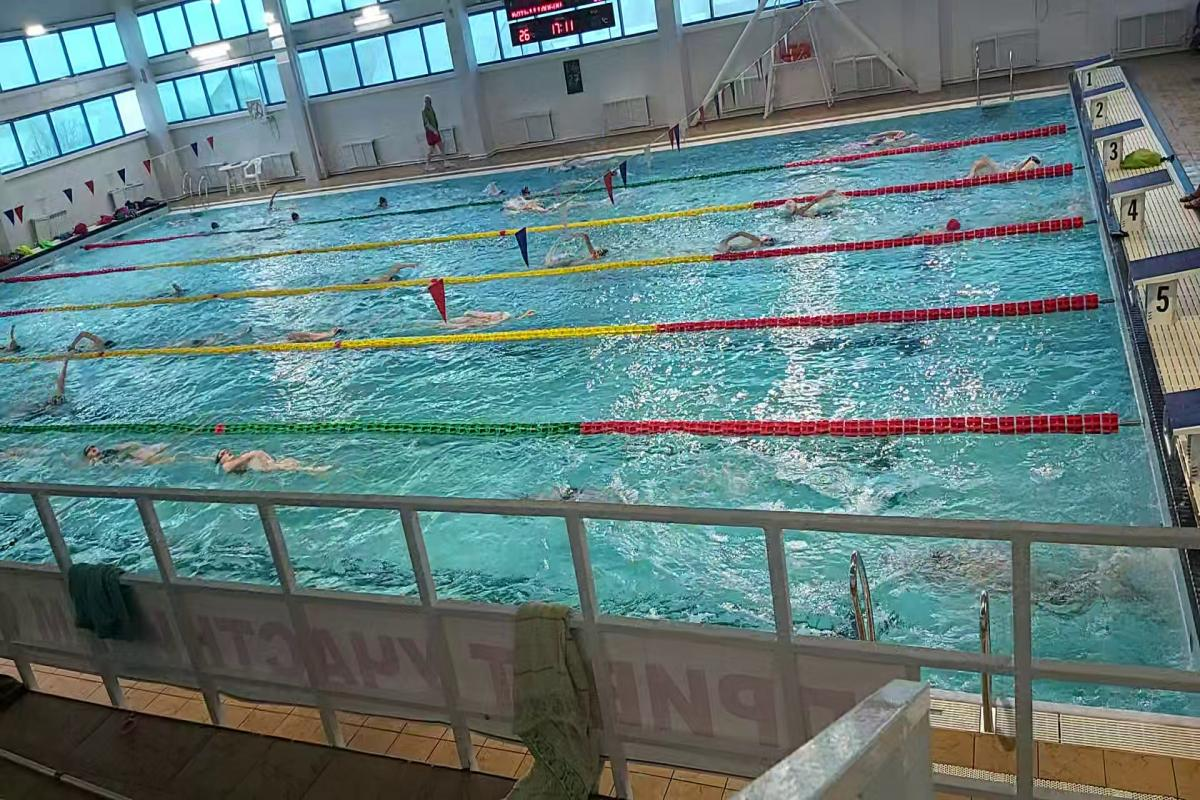swimmer: (912, 540, 1160, 612), (204, 443, 340, 483), (72, 438, 187, 473), (450, 300, 542, 336), (552, 226, 627, 261), (50, 322, 128, 352), (37, 372, 85, 419), (350, 256, 428, 282), (779, 194, 844, 222), (271, 322, 350, 345), (966, 152, 1050, 172), (719, 227, 781, 249), (907, 212, 964, 234), (507, 198, 562, 218)
